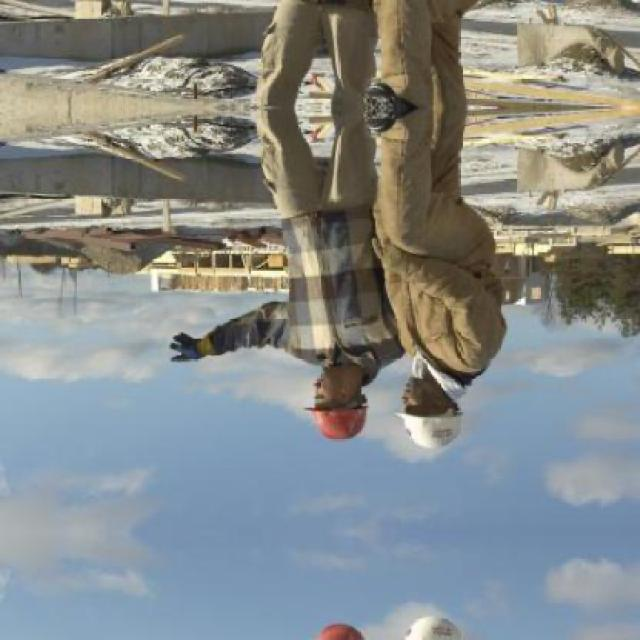con casco: (391, 348, 480, 468), (302, 352, 358, 457)
